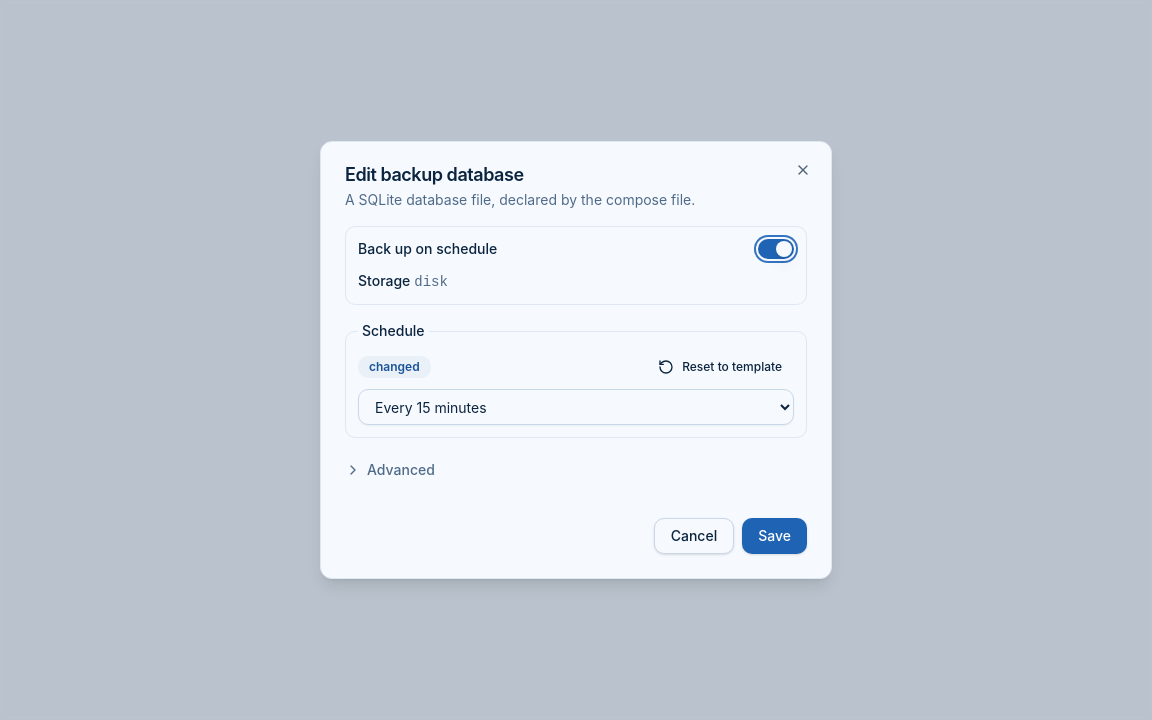
Test: BackupEditDialog › notes the server's ceiling and refuses a bad retention
This screenshot has width=1152, height=720.
Click the button "Advanced" at (390, 470), box [345, 450, 435, 490]
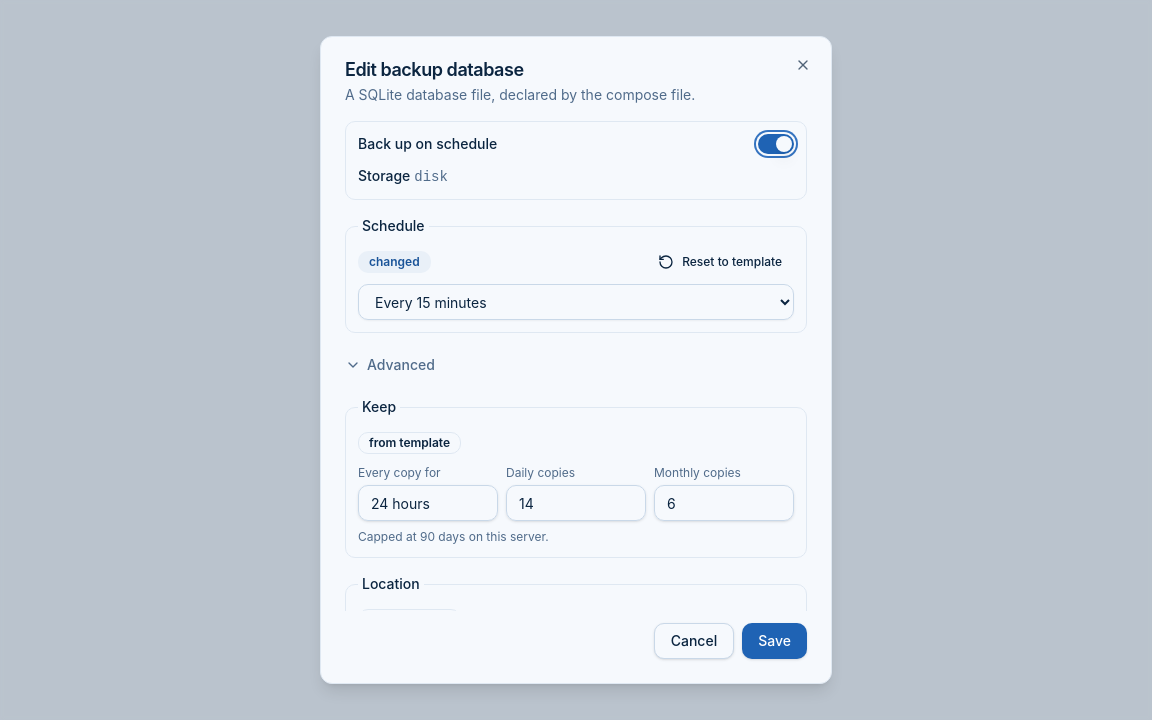
expect the text "Capped at 90 days on this server." is shown: met, box [358, 529, 549, 544]
Replace the text in the field labelled "Monthly copies" with "0" at (724, 503), box [654, 485, 794, 521]
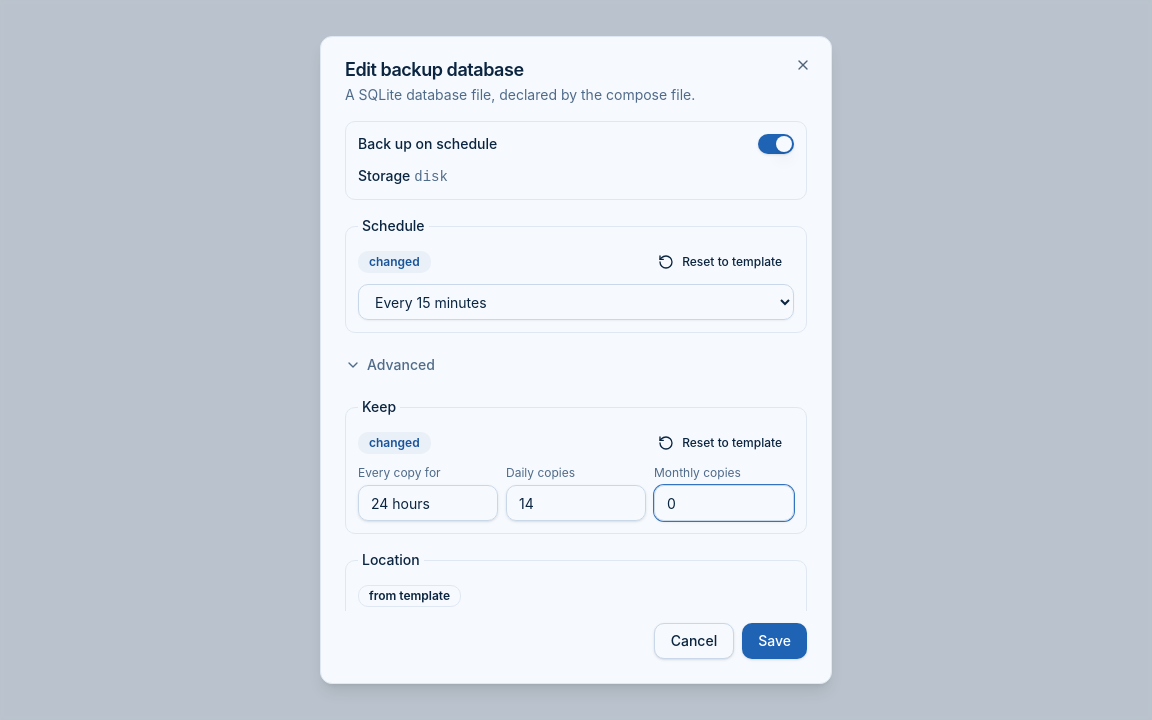
expect the text "Capped at 90 days on this server." is not shown: met
Type "x" into the field labelled "Monthly copies" at (724, 503), box [654, 485, 794, 521]
(page scrolled)
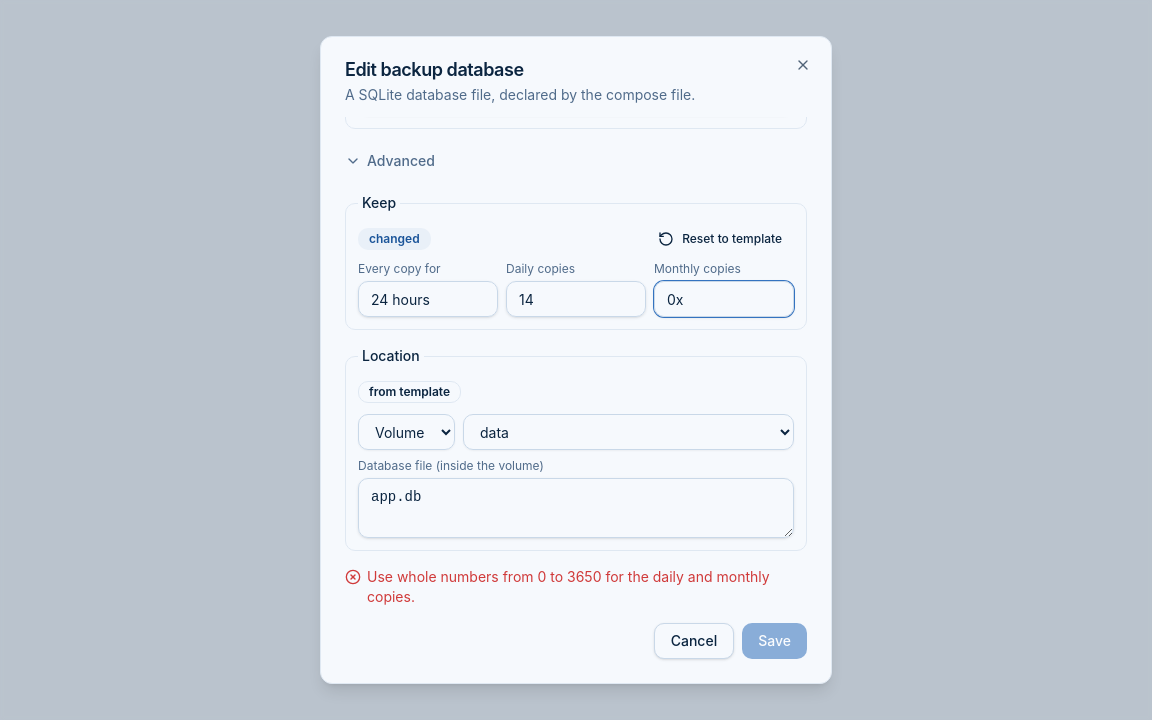
expect the message shows "Use whole numbers from 0 to 3650": met, box [367, 568, 770, 605]
